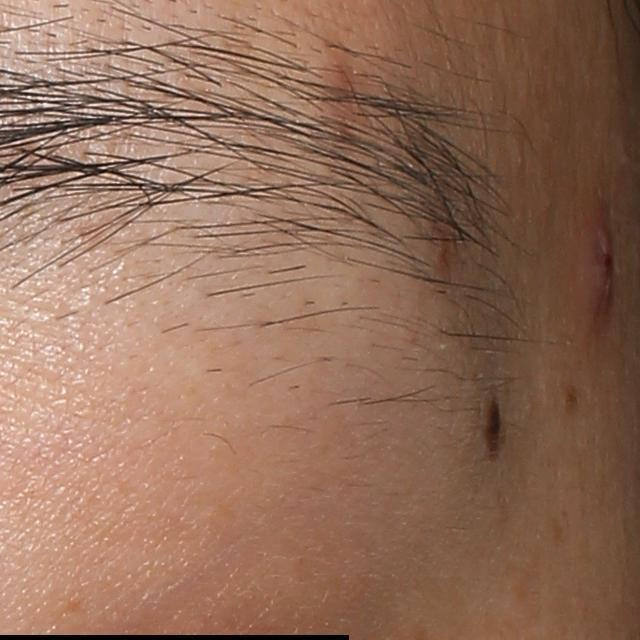papule: (580, 208, 621, 323)
